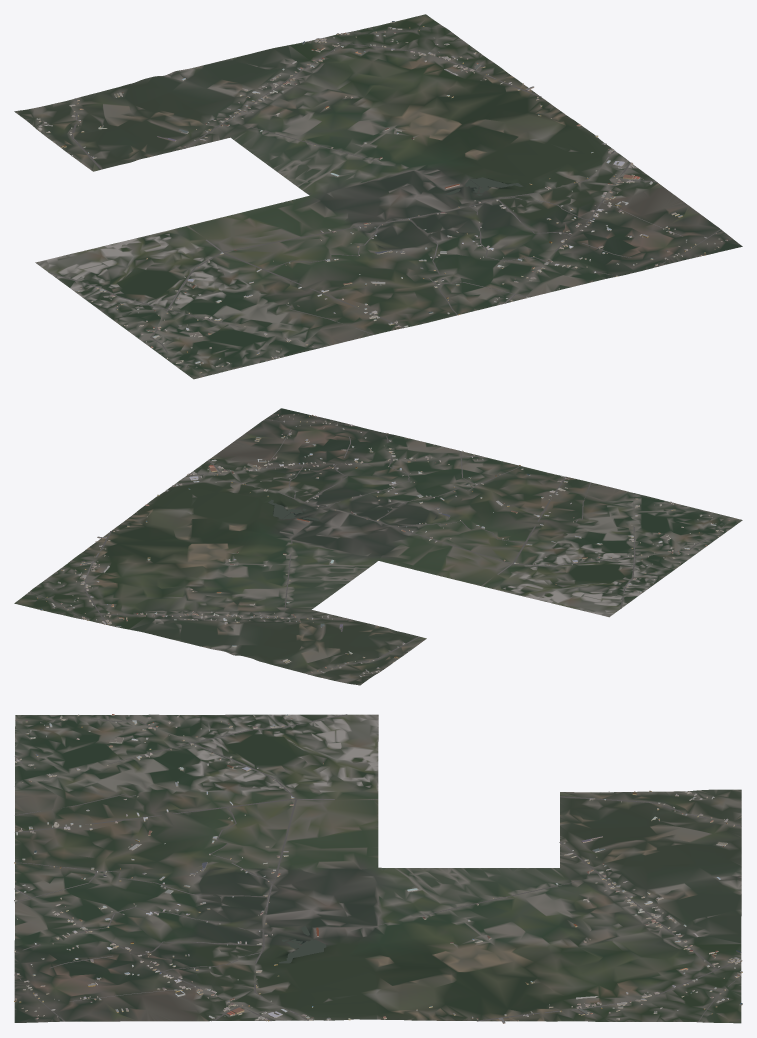
The picture shows the model from 3 angles, top to bottom: view 1: azimuth 30°, elevation 25°; view 2: azimuth 150°, elevation 25°; view 3: azimuth 270°, elevation 25°; orthographic projection. The views are drawn at different scales.
Parts seen in each view (by area): view 1: ground, buildings, roads; view 2: ground, buildings, roads; view 3: ground, buildings, roads, water.
Part boxes in pixels (box(x1,y1,x2,y2)): ground: box(14, 14, 742, 379); buildings: box(36, 21, 727, 373); roads: box(48, 27, 720, 376); ground: box(14, 408, 742, 685); buildings: box(37, 414, 730, 676); roads: box(30, 420, 733, 674); ground: box(14, 714, 741, 1023); buildings: box(14, 714, 742, 1023); roads: box(14, 714, 741, 1022); water: box(279, 925, 326, 963).
Bounding box in the file's own units: 5649 × 44.13 × 5620.
